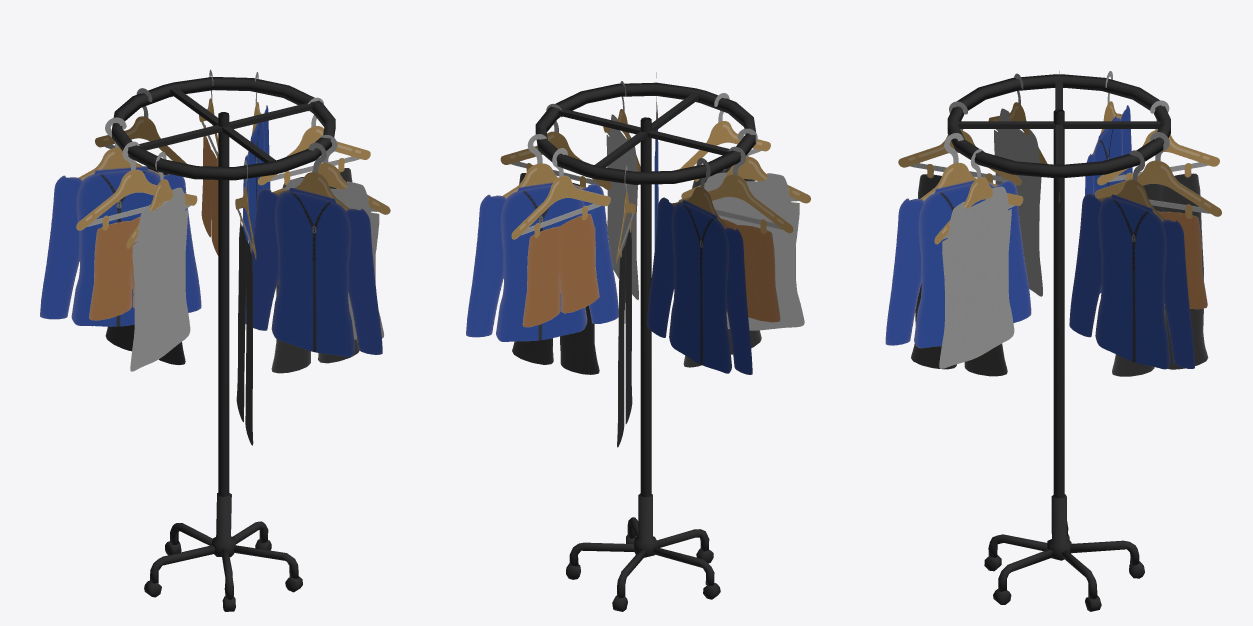
File: clothing rack.fbx
3 renders of one model, left to right at view 1: azimuth 30°, elevation 25°; view 2: azimuth 150°, elevation 25°; view 3: azimuth 270°, elevation 25°, orthographic. The views are drawn at different scales.
Visible parts, largest first — view 1: Screenshot_2026-09-05_234627-removebg-preview.001, Screenshot_2026-09-05_234627-removebg-preview.002, Screenshot_2026-09-05_234632-removebg-preview.001, Cube, Screenshot_2026-09-05_234617-removebg-preview, Cylinder.012, Cube.001, Screenshot_2026-09-05_234622-removebg-preview.001, Screenshot_2026-09-05_234622-removebg-preview, Screenshot_2026-09-05_234632-removebg-preview, Screenshot_2026-09-05_234622-removebg-preview.002, Screenshot_2026-09-05_234617-removebg-preview.001 (+3 smaller); view 2: Screenshot_2026-09-05_234627-removebg-preview.002, Screenshot_2026-09-05_234627-removebg-preview, Screenshot_2026-09-05_234617-removebg-preview.001, Cube, Screenshot_2026-09-05_234632-removebg-preview.001, Screenshot_2026-09-05_234617-removebg-preview, Cylinder.012, Cube.001, Screenshot_2026-09-05_234622-removebg-preview, Screenshot_2026-09-05_234632-removebg-preview, Screenshot_2026-09-05_234622-removebg-preview.002, Screenshot_2026-09-05_234622-removebg-preview.001 (+2 smaller); view 3: Screenshot_2026-09-05_234627-removebg-preview, Screenshot_2026-09-05_234632-removebg-preview, Screenshot_2026-09-05_234627-removebg-preview.001, Cube, Cylinder.012, Screenshot_2026-09-05_234622-removebg-preview.002, Cube.001, Screenshot_2026-09-05_234632-removebg-preview.001, Screenshot_2026-09-05_234617-removebg-preview.001, Screenshot_2026-09-05_234622-removebg-preview.001, Screenshot_2026-09-05_234627-removebg-preview.002, Cube.002 (+1 smaller).
Part boxes in pixels (x1,y1,x2,y2): Screenshot_2026-09-05_234627-removebg-preview.001: [245, 142, 382, 356]; Screenshot_2026-09-05_234627-removebg-preview.002: [40, 117, 201, 326]; Screenshot_2026-09-05_234632-removebg-preview.001: [126, 152, 197, 371]; Cube: [112, 77, 335, 180]; Screenshot_2026-09-05_234617-removebg-preview: [76, 141, 185, 320]; Cylinder.012: [144, 493, 302, 611]; Cube.001: [218, 112, 229, 496]; Screenshot_2026-09-05_234622-removebg-preview.001: [235, 160, 256, 445]; Screenshot_2026-09-05_234622-removebg-preview: [257, 97, 370, 373]; Screenshot_2026-09-05_234632-removebg-preview: [272, 134, 390, 339]; Screenshot_2026-09-05_234622-removebg-preview.002: [95, 88, 186, 364]; Screenshot_2026-09-05_234617-removebg-preview.001: [199, 69, 218, 255]; Screenshot_2026-09-05_234627-removebg-preview.002: [647, 158, 752, 374]; Screenshot_2026-09-05_234627-removebg-preview: [466, 134, 618, 341]; Screenshot_2026-09-05_234617-removebg-preview.001: [511, 148, 610, 327]; Cube: [535, 82, 756, 184]; Screenshot_2026-09-05_234632-removebg-preview.001: [681, 128, 810, 330]; Screenshot_2026-09-05_234617-removebg-preview: [678, 146, 793, 322]; Cylinder.012: [566, 493, 720, 611]; Cube.001: [640, 117, 651, 497]; Screenshot_2026-09-05_234622-removebg-preview: [500, 103, 611, 374]; Screenshot_2026-09-05_234632-removebg-preview: [603, 81, 640, 299]; Screenshot_2026-09-05_234622-removebg-preview.002: [616, 165, 635, 447]; Screenshot_2026-09-05_234622-removebg-preview.001: [679, 93, 770, 367]; Screenshot_2026-09-05_234627-removebg-preview: [1069, 150, 1194, 369]; Screenshot_2026-09-05_234632-removebg-preview: [934, 149, 1023, 368]; Screenshot_2026-09-05_234627-removebg-preview.001: [885, 133, 1031, 348]; Cube: [947, 74, 1170, 177]; Cylinder.012: [984, 494, 1144, 611]; Screenshot_2026-09-05_234622-removebg-preview.002: [1097, 100, 1219, 376]; Cube.001: [1053, 109, 1064, 498]; Screenshot_2026-09-05_234632-removebg-preview.001: [988, 73, 1047, 296]; Screenshot_2026-09-05_234617-removebg-preview.001: [1095, 132, 1221, 309]; Screenshot_2026-09-05_234622-removebg-preview.001: [898, 101, 1021, 376]; Screenshot_2026-09-05_234627-removebg-preview.002: [1085, 71, 1132, 294]; Cube.002: [957, 121, 1160, 128].
Bounding box in the file's own units: 337 × 481 × 338.
